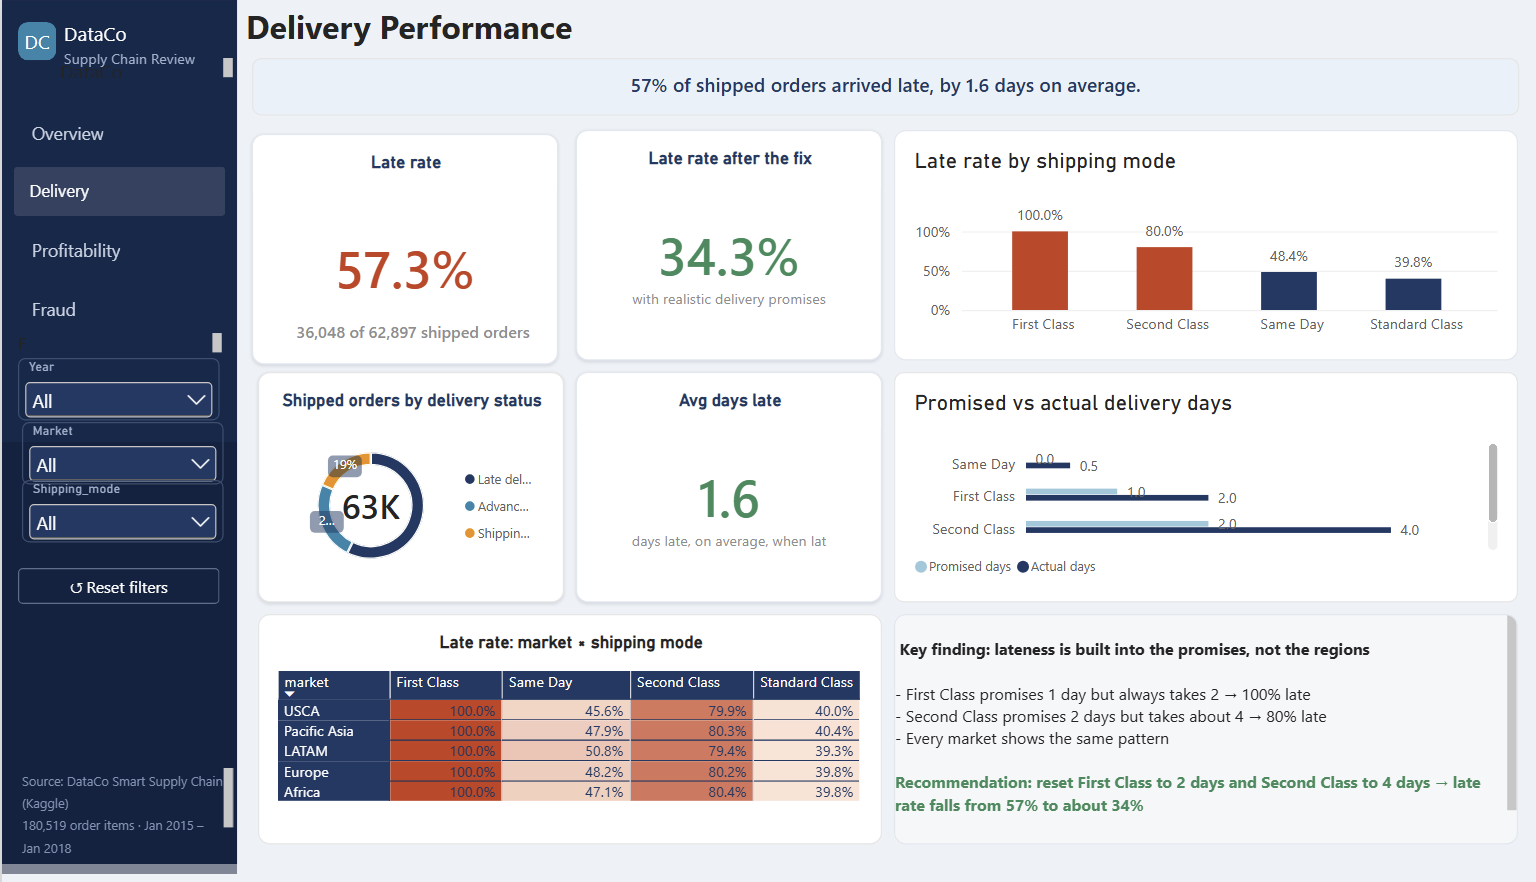

This screenshot's page, from the dashboard's own definition file:
{"tool":"powerbi","page":{"name":"Delivery","canvas":[1920,1080],"ordinal":1},"visuals":[{"type":"shape","box":[0,0,196,720],"z":0,"group":"g1"},{"type":"group","id":"g1","title":"Side panel","box":[0,0,196,1080],"z":0},{"type":"shape","box":[0,368,196,360],"z":1000,"group":"g1"},{"type":"shape","box":[14,18,32,32],"z":2000,"group":"g1"},{"type":"textbox","box":[0,730,196,350],"z":3000,"group":"g1"},{"type":"textbox","box":[48,48,144,16],"z":4000,"group":"g1"},{"type":"textbox","box":[52,16,140,42],"z":5000,"group":"g1"},{"type":"pageNavigator","box":[10,90,176,190],"z":6000,"group":"g1"},{"type":"textbox","box":[14,276,170,24],"z":7000,"group":"g1"},{"type":"slicer","fields":{"Values":["Calendar.Year"]},"box":[14,298,168,52],"z":8000,"group":"g1"},{"type":"slicer","fields":{"Values":["Markets.market"]},"box":[16,352,168,52],"z":9000,"group":"g1"},{"type":"slicer","fields":{"Values":["orders.shipping_mode"]},"box":[16,400,168,52],"z":10000,"group":"g1"},{"type":"actionButton","box":[14,474,168,30],"z":11000,"group":"g1"},{"type":"textbox","box":[16,640,176,80],"z":12000,"group":"g1"}]}

Visuals, with their boxes on the page's 1920x1080 design canvas (x1, y1, x2, y2). These are canvas units, not pixel positions in the 1536x882 screenshot, which may show the page scaled, cropped or inside an application window:
shape: 0 0 196 720
"Side panel" group: 0 0 196 1080
shape: 0 368 196 728
shape: 14 18 46 50
textbox: 0 730 196 1080
textbox: 48 48 192 64
textbox: 52 16 192 58
pageNavigator: 10 90 186 280
textbox: 14 276 184 300
slicer - Calendar.Year: 14 298 182 350
slicer - Markets.market: 16 352 184 404
slicer - orders.shipping_mode: 16 400 184 452
actionButton: 14 474 182 504
textbox: 16 640 192 720
